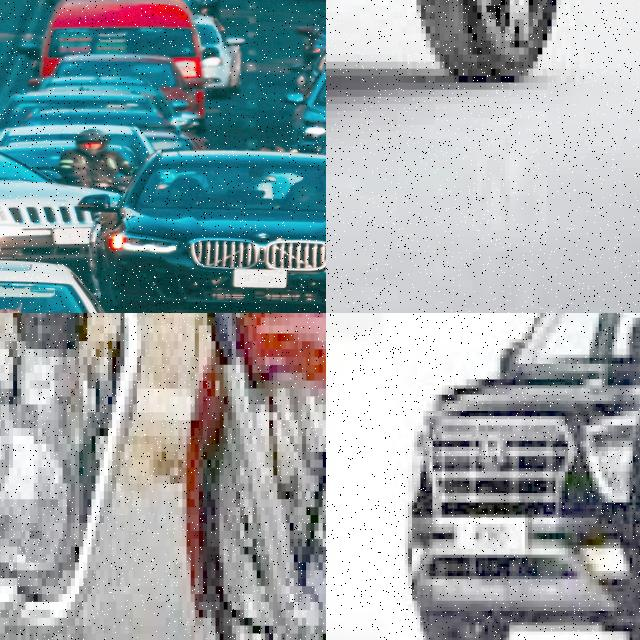bike: (0, 313, 326, 640)
car: (387, 313, 640, 640), (326, 0, 640, 251), (95, 149, 326, 313), (39, 0, 216, 101), (0, 133, 117, 269)
